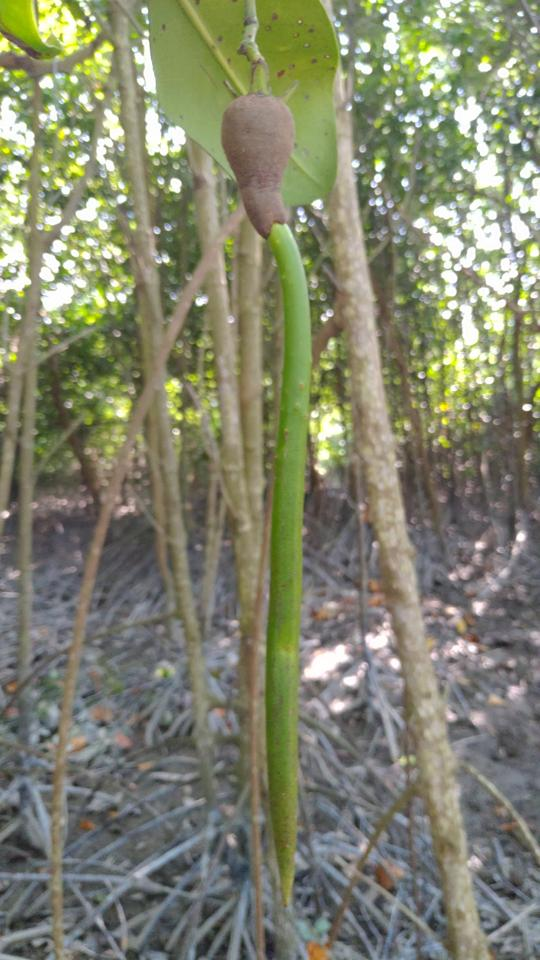mentah: (206, 63, 342, 921)
